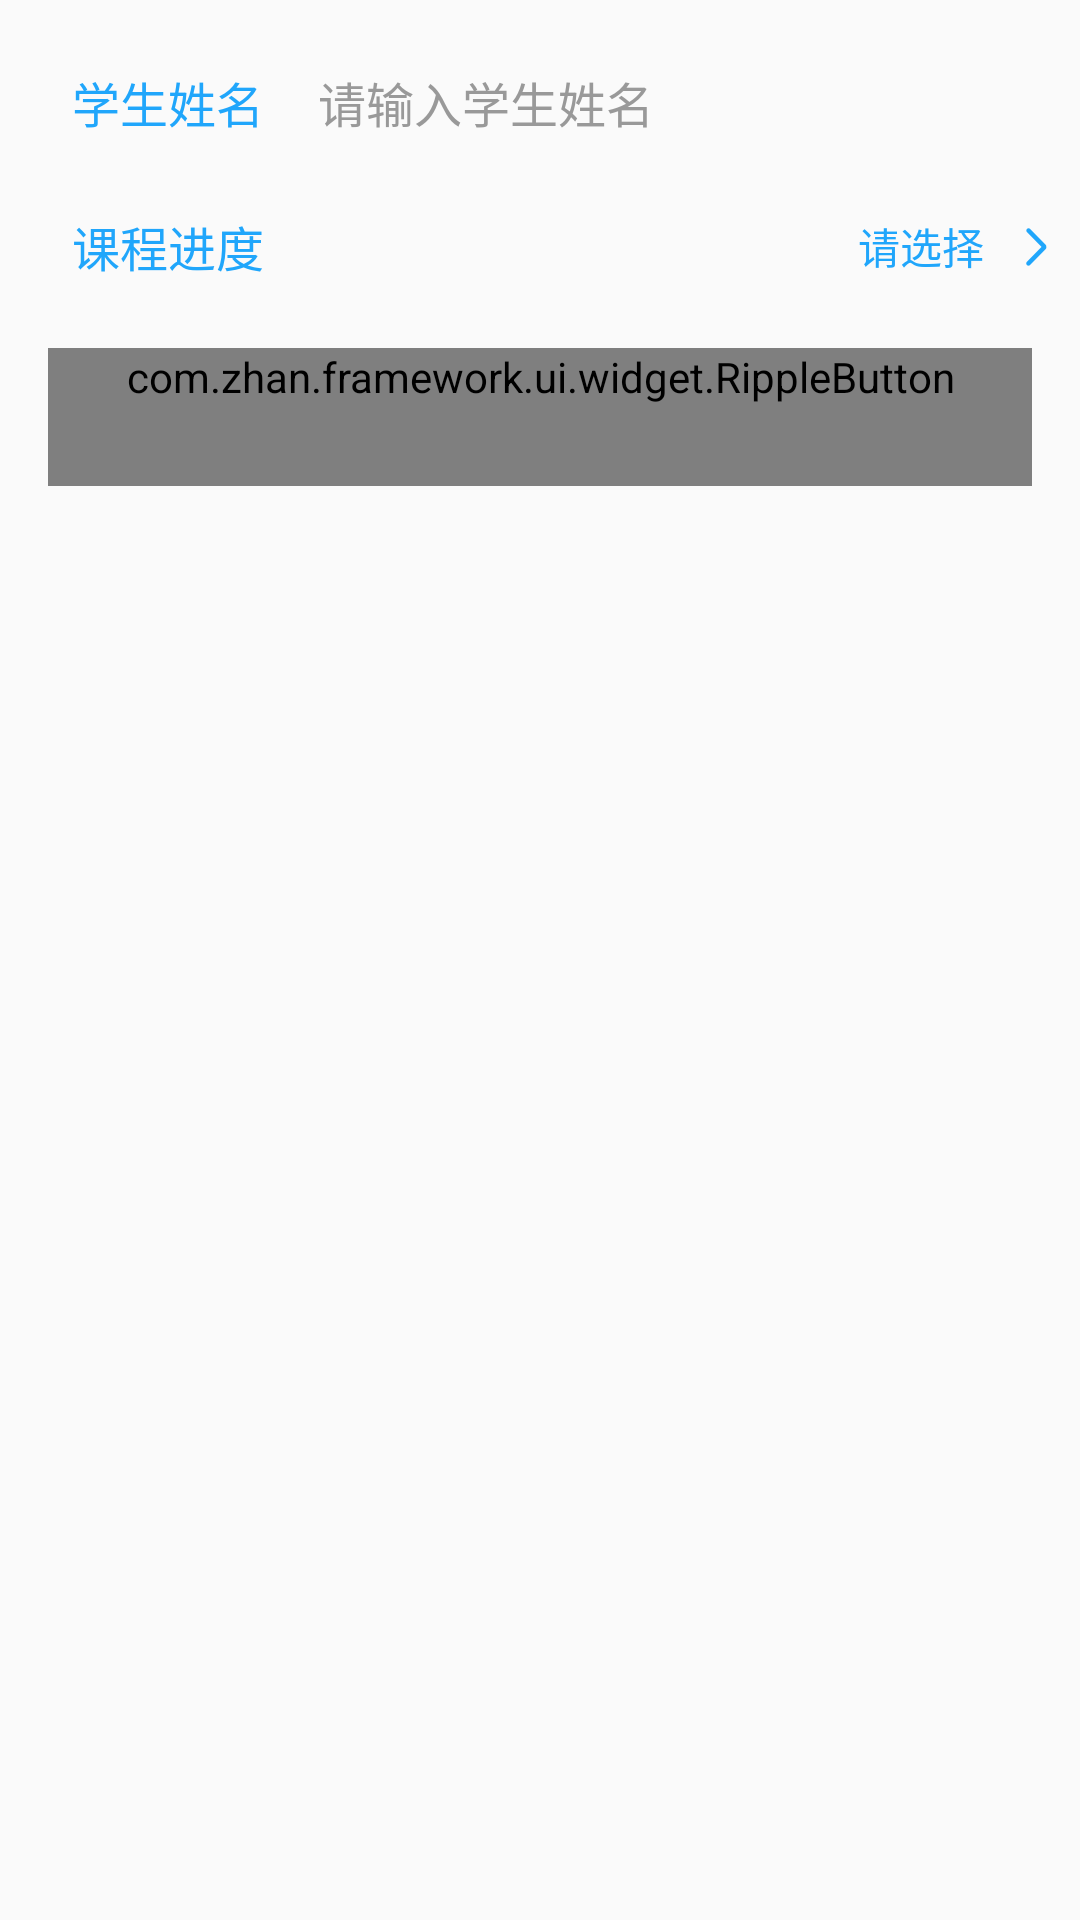

Icon bounding boxes for this 1080×1920 phone screenshot, format (x1, y1, x2, y2):
arrow right: (1026, 228, 1047, 266)
